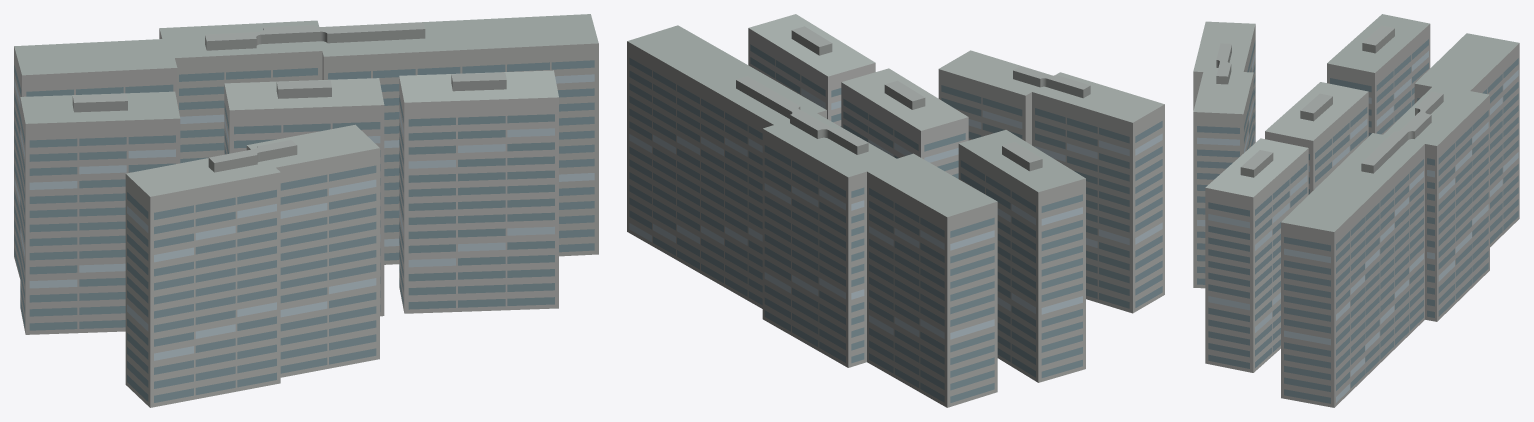
File: apt-a10024780.glb
3 views of the same model, side by side, from view 1: azimuth 30°, elevation 25°; view 2: azimuth 150°, elevation 25°; view 3: azimuth 270°, elevation 25° (orthographic). The views are drawn at different scales.
Visible parts, largest first — view 1: apt-a10024780; view 2: apt-a10024780; view 3: apt-a10024780.
Part boxes in pixels (x1=…): apt-a10024780: x1=14, y1=14, x2=598, y2=407; apt-a10024780: x1=627, y1=14, x2=1164, y2=407; apt-a10024780: x1=1193, y1=14, x2=1519, y2=407.
Size of the model in its own units: 122 by 47.81 by 76.98.
